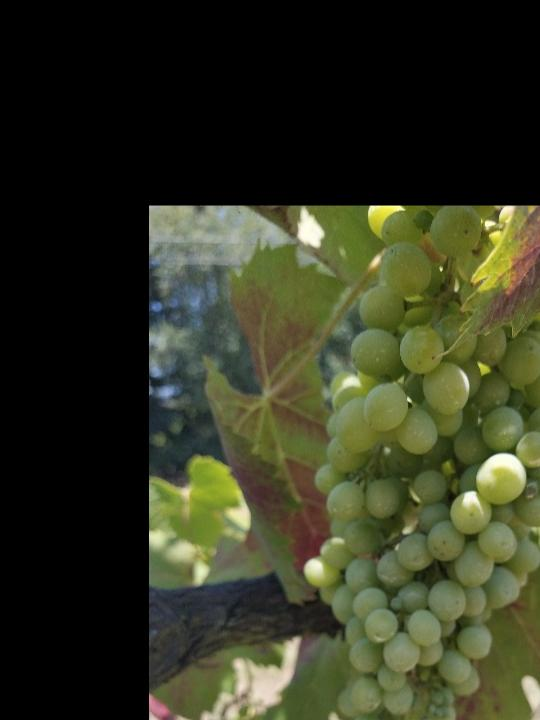grape: (302, 210, 540, 720)
